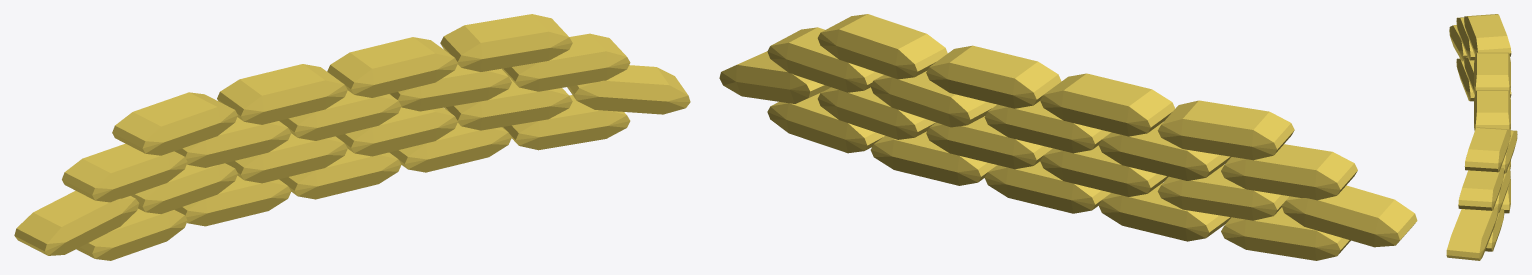
File: sandbags.glb
3 views of the same model, side by side, from view 1: azimuth 30°, elevation 25°; view 2: azimuth 150°, elevation 25°; view 3: azimuth 270°, elevation 25° (orthographic). The views are drawn at different scales.
Parts seen in each view (by area): view 1: Cube_001; view 2: Cube_001; view 3: Cube_001.
Part boxes in pixels (box(x1,y1,x2,y2)): Cube_001: box(14, 14, 690, 260); Cube_001: box(719, 14, 1417, 260); Cube_001: box(1446, 14, 1517, 260).
Size of the model in its own units: 0.9515 by 0.161 by 0.1267.
